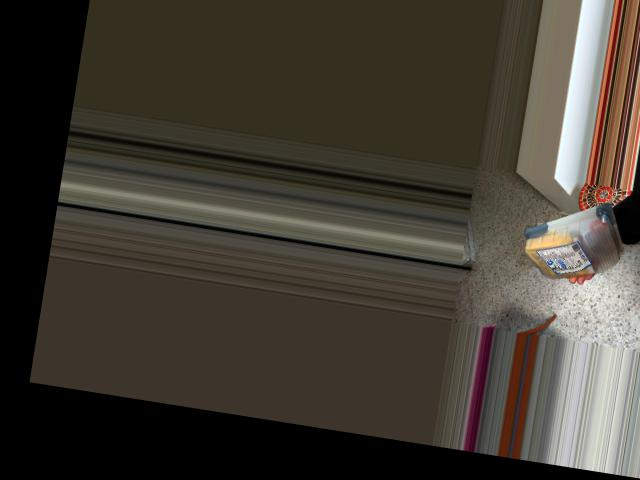cheese: (513, 192, 640, 293)
